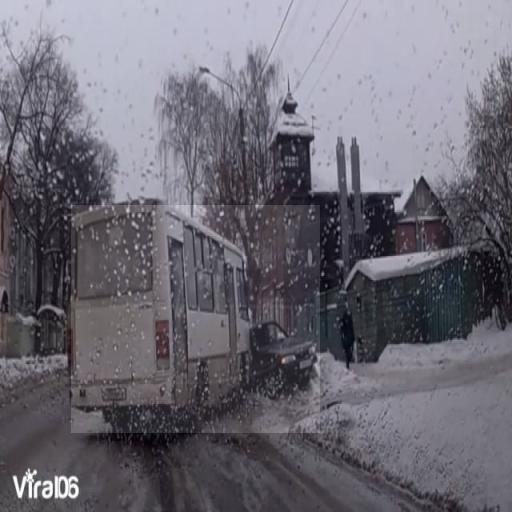小汽车撞小汽车: (71, 205, 320, 433)
